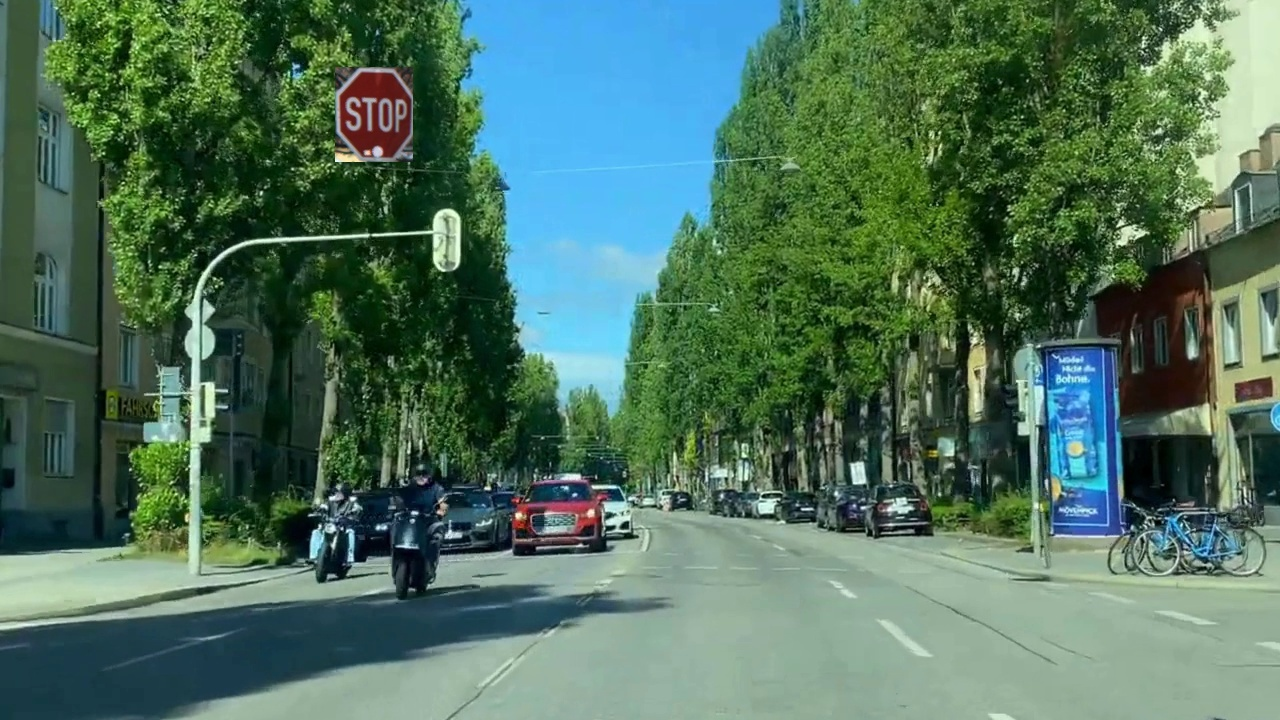Stop: (335, 67, 413, 162)
